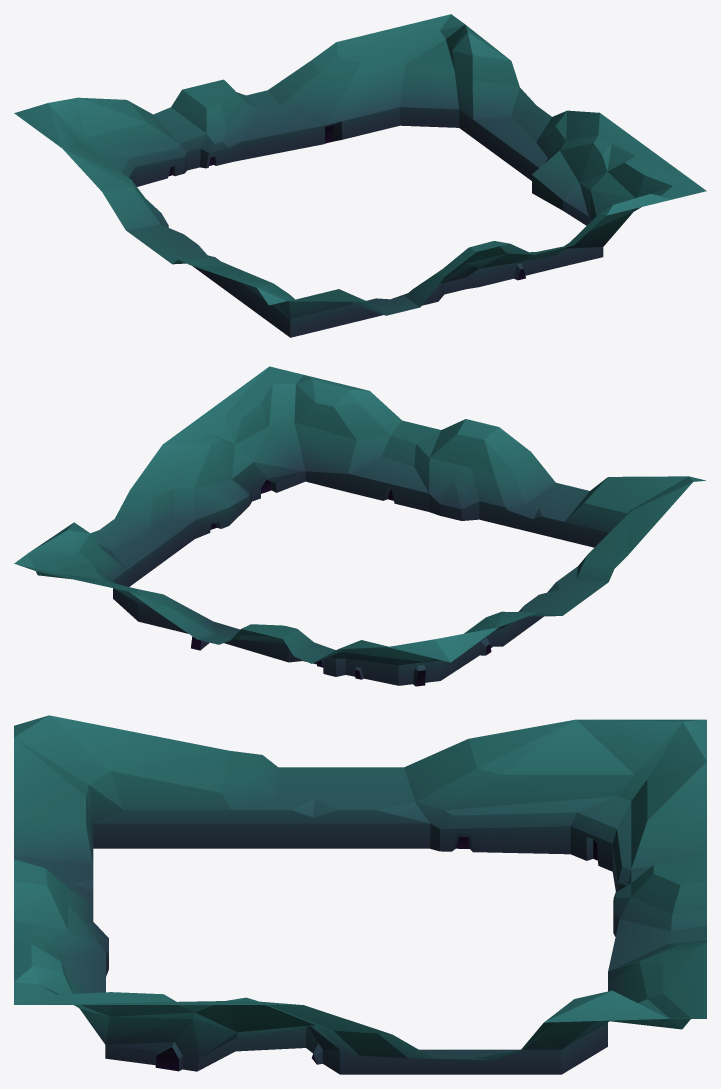
File: World_Borders.gltf
The picture shows the model from 3 angles, top to bottom: view 1: azimuth 30°, elevation 25°; view 2: azimuth 150°, elevation 25°; view 3: azimuth 270°, elevation 25°; orthographic projection. The views are drawn at different scales.
Visible parts, largest first — view 1: World_Borders; view 2: World_Borders; view 3: World_Borders.
Boxes of the visible parts, x1,y1,x2,y2 form: World_Borders: [14, 14, 706, 337]; World_Borders: [14, 366, 705, 686]; World_Borders: [14, 715, 706, 1074].
Size of the model in its own units: 308 by 59.37 by 311.
Materials: 1 (1 with a texture image).
